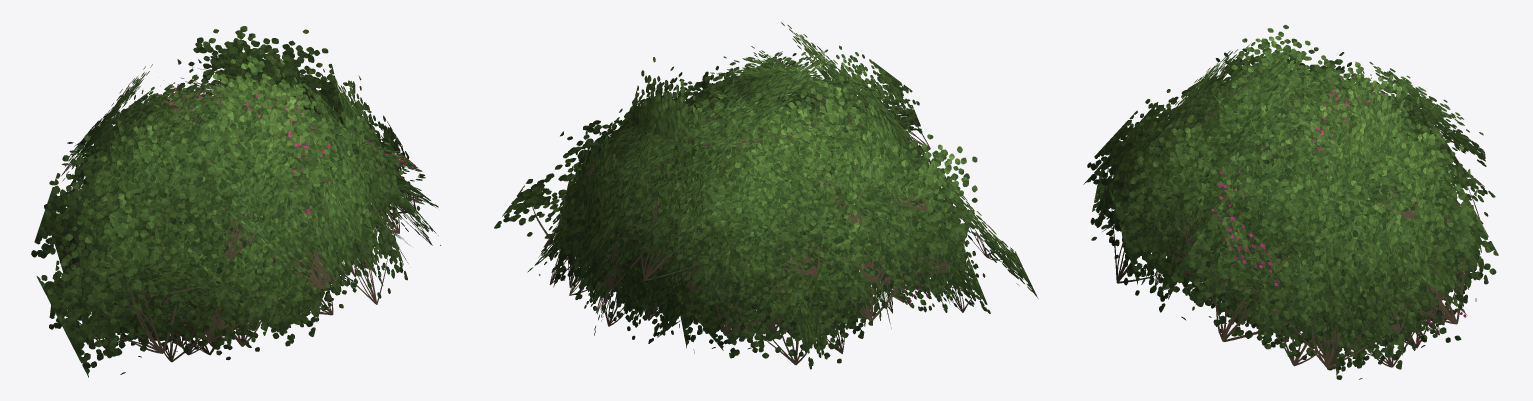
Rendered from shrub.glb.
3 renders of one model, left to right at view 1: azimuth 30°, elevation 25°; view 2: azimuth 150°, elevation 25°; view 3: azimuth 270°, elevation 25°, orthographic. The views are drawn at different scales.
Parts seen in each view (by area): view 1: shrub; view 2: shrub; view 3: shrub.
Boxes of the visible parts, x1,y1,x2,y2 form: shrub: [31, 26, 440, 377]; shrub: [494, 22, 1038, 369]; shrub: [1083, 25, 1498, 379].
Size of the model in its own units: 2.97 by 1.53 by 2.46.
1 material, 1 textured.
